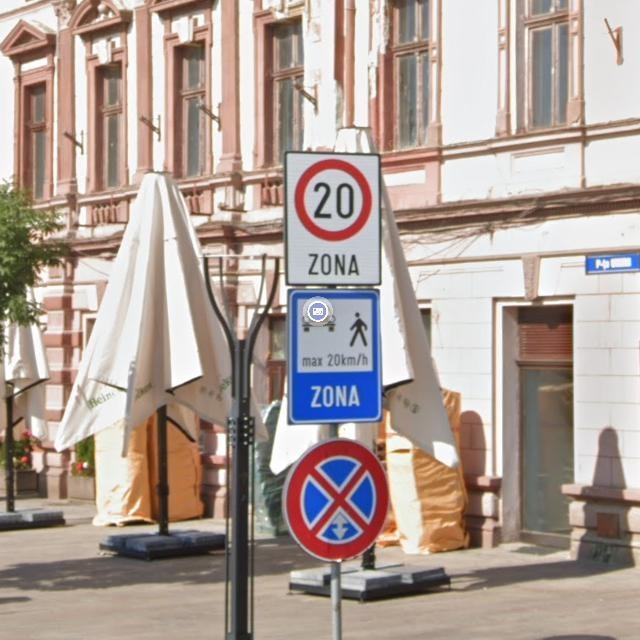forb_speed_over_20: (295, 158, 373, 241)
forb_waiting: (283, 437, 391, 563)
